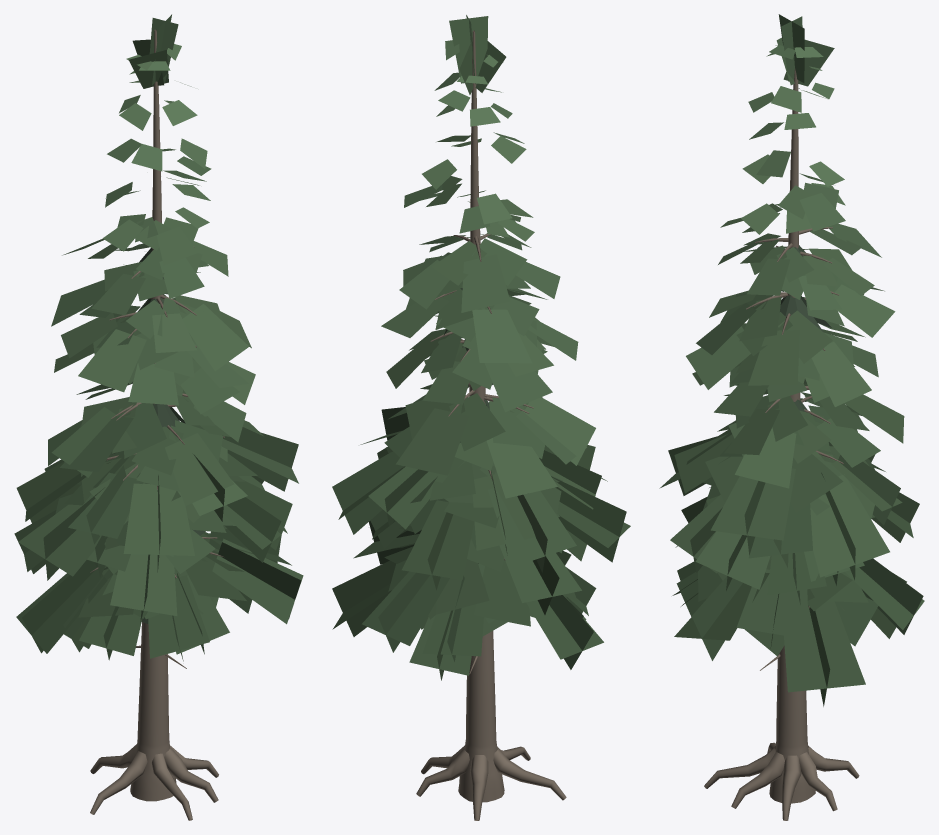
Rendered from fir_mid.glb.
3 renders of one model, left to right at view 1: azimuth 30°, elevation 25°; view 2: azimuth 150°, elevation 25°; view 3: azimuth 270°, elevation 25°, orthographic.
Visible parts, largest first — view 1: fir_mid; view 2: fir_mid; view 3: fir_mid.
Part boxes in pixels (x1=…): fir_mid: x1=14, y1=14, x2=303, y2=820; fir_mid: x1=332, y1=15, x2=630, y2=820; fir_mid: x1=659, y1=14, x2=924, y2=820.
Size of the model in its own units: 6.19 by 17.48 by 5.4.
